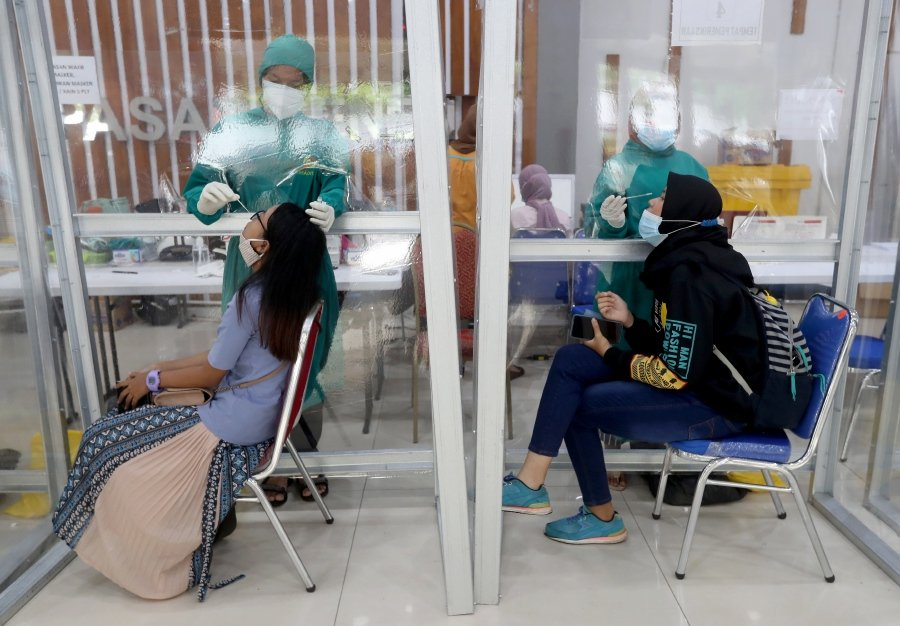Gloves: (194, 179, 241, 221), (596, 192, 631, 233)
mask_weared_incorrect: (239, 203, 274, 268), (638, 185, 672, 247)
with_mask: (259, 68, 309, 125), (630, 103, 680, 155)
